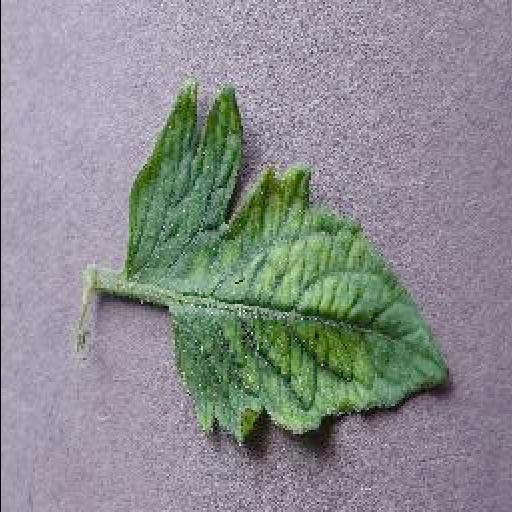Mosaic Virus: (121, 79, 455, 445)
